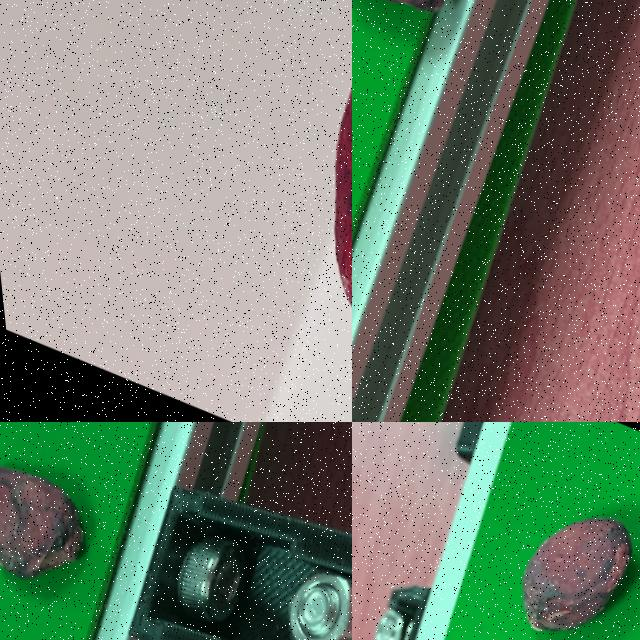Fine_cocoabeans: (187, 0, 351, 421), (442, 422, 639, 639)
Flat_cocoabeans: (0, 422, 165, 639), (352, 0, 551, 156)
